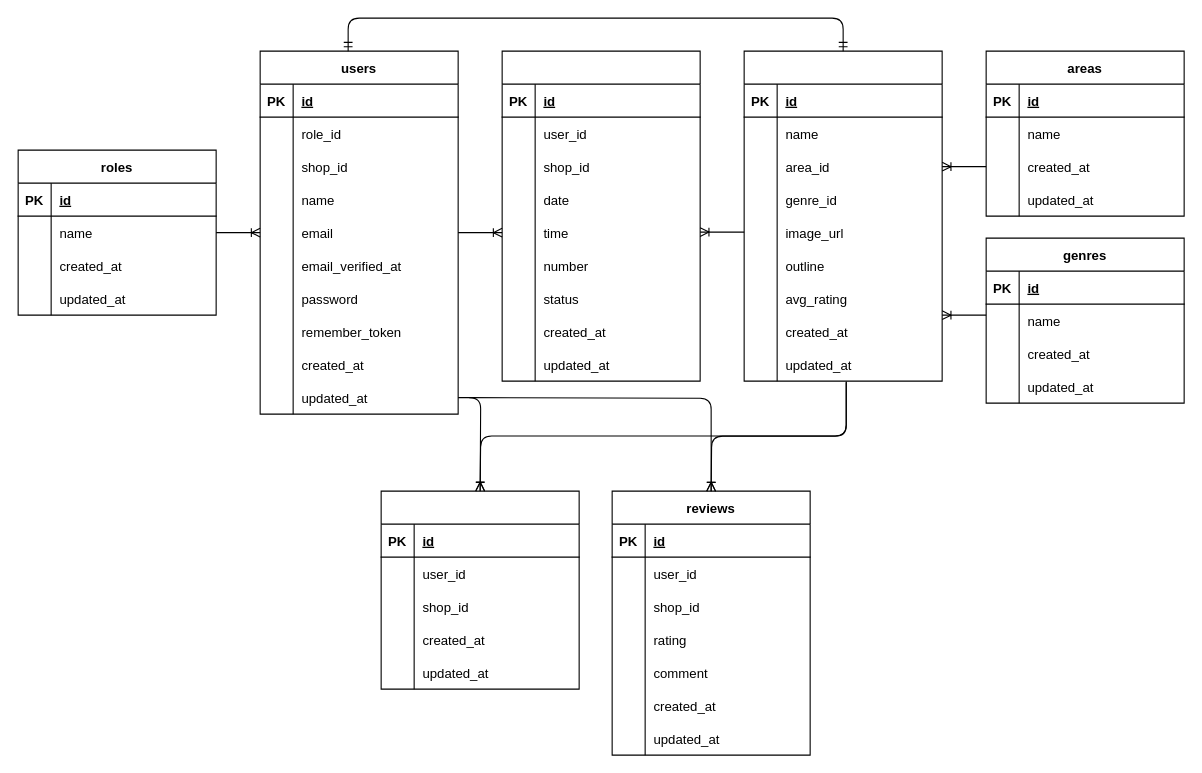
This 1202x773 diagram has some shape labels left out. Each missing label, with the box of its shape:
favorites: (380, 490, 579, 689)
reservations: (501, 50, 700, 381)
shops: (743, 50, 942, 381)
